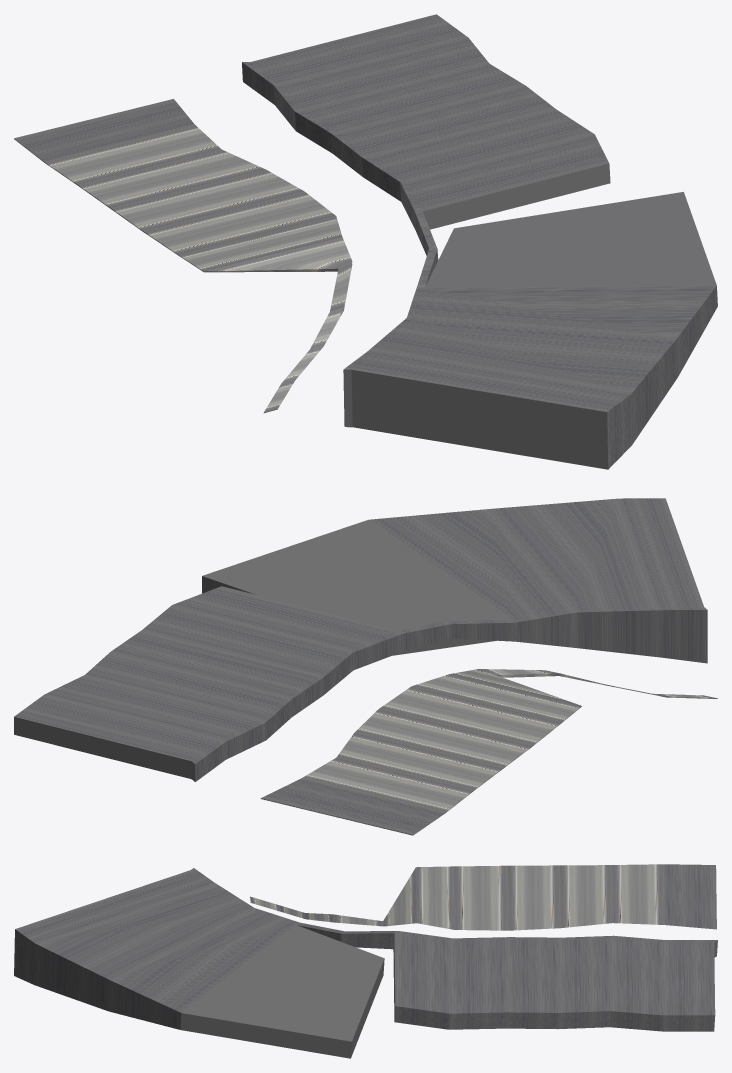
The picture shows the model from 3 angles, top to bottom: view 1: azimuth 30°, elevation 25°; view 2: azimuth 150°, elevation 25°; view 3: azimuth 270°, elevation 25°; orthographic projection. The views are drawn at different scales.
Parts seen in each view (by area): view 1: polySurface1; view 2: polySurface1; view 3: polySurface1.
Part boxes in pixels (box(x1,y1,x2,y2)): polySurface1: box(14, 14, 717, 469); polySurface1: box(14, 498, 717, 835); polySurface1: box(14, 864, 717, 1058).
Bounding box in the file's own units: 0.6224 × 0.0967 × 0.9636.
